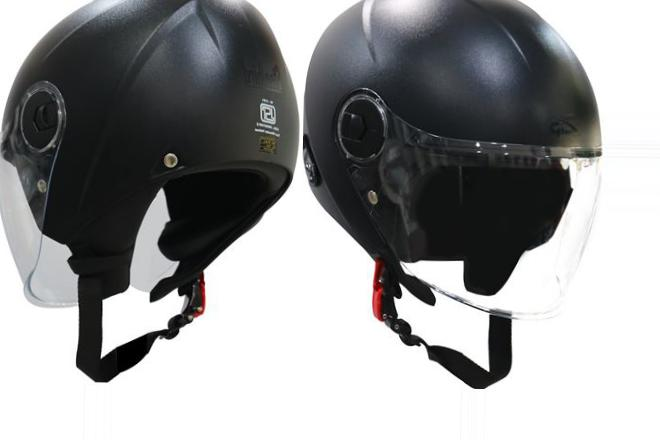helmet: (300, 1, 630, 411)
